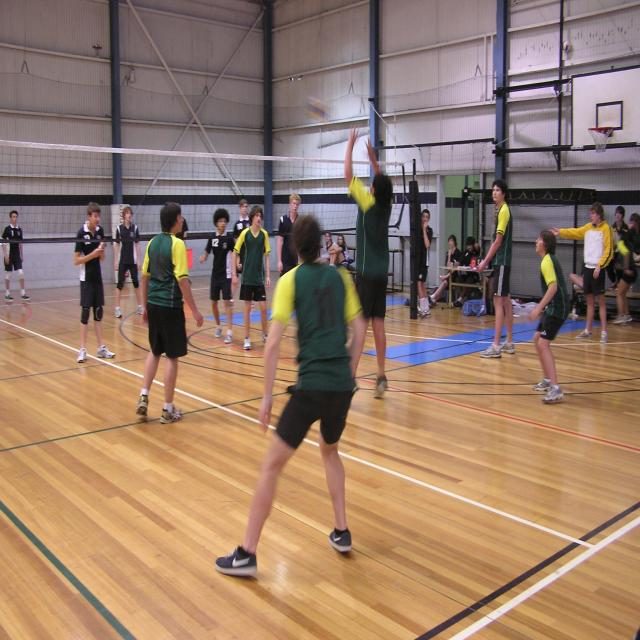body: (212, 211, 368, 582), (135, 200, 204, 426), (344, 122, 393, 398), (547, 202, 614, 344), (526, 228, 572, 405), (475, 178, 517, 360), (73, 200, 116, 364), (198, 204, 243, 346), (231, 205, 272, 352), (113, 206, 144, 319), (609, 222, 638, 326), (164, 203, 190, 314), (0, 209, 31, 301), (427, 233, 462, 310), (232, 199, 255, 309), (450, 235, 481, 310), (276, 192, 302, 278), (605, 206, 629, 291), (416, 208, 434, 318), (583, 240, 607, 296), (312, 230, 338, 266), (328, 234, 349, 270), (628, 212, 640, 264)
